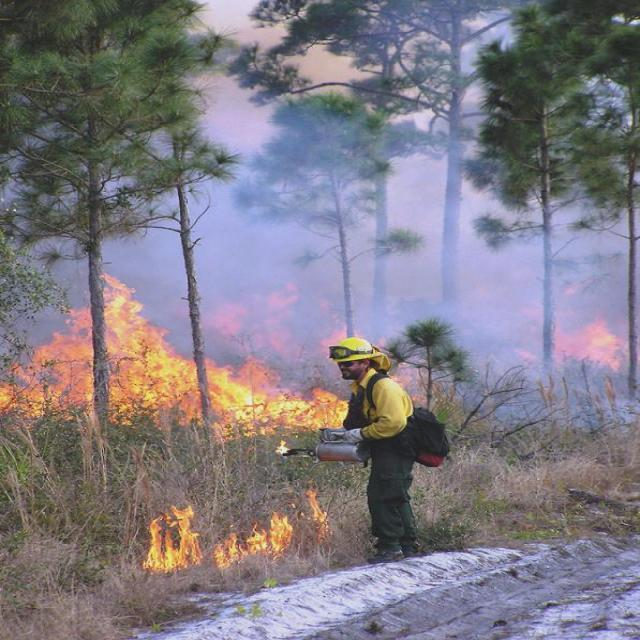Fire: (24, 282, 348, 434), (152, 478, 342, 572), (511, 296, 625, 374)
